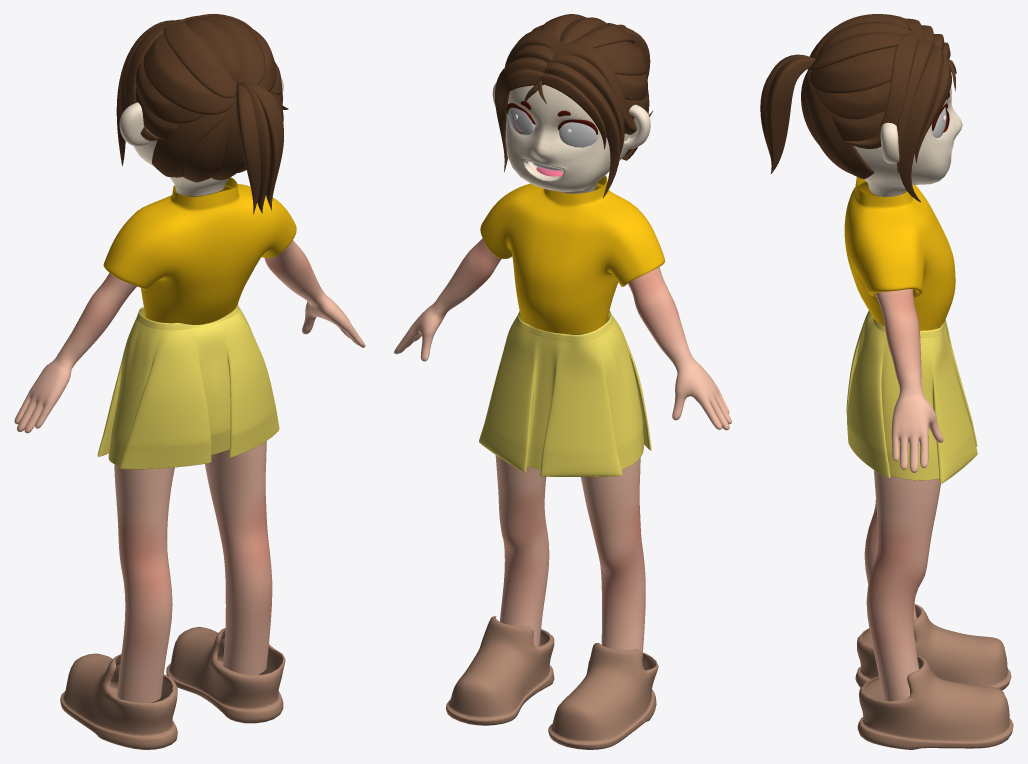
Rendered from girlplayer.fbx.
3 views of the same model, side by side, from view 1: azimuth 30°, elevation 25°; view 2: azimuth 150°, elevation 25°; view 3: azimuth 270°, elevation 25° (orthographic). The views are drawn at different scales.
Parts seen in each view (by area): view 1: Hair, Cube.003_contours, Koneko_Skirt, Circle.001, Cube.004_polystrips, Cube.003_contours.002, 人頭, 左耳; view 2: Koneko_Skirt, Circle.001, Cube.003_contours, Cube.004_polystrips, Hair, Cube.003_contours.002, 人頭, 眼珠, 左耳; view 3: Hair, Cube.004_polystrips, Koneko_Skirt, Cube.003_contours, Circle.001, Cube.003_contours.002, 人頭, 右耳.
Part boxes in pixels (<box>): Hair: <box>116,14,288,214</box>; Cube.003_contours: <box>114,441,272,703</box>; Koneko_Skirt: <box>97,304,279,469</box>; Circle.001: <box>103,177,296,324</box>; Cube.004_polystrips: <box>60,626,285,749</box>; Cube.003_contours.002: <box>14,240,365,433</box>; 人頭: <box>133,132,228,196</box>; 左耳: <box>119,102,148,146</box>; Koneko_Skirt: <box>479,310,651,476</box>; Circle.001: <box>480,175,664,333</box>; Cube.003_contours: <box>495,455,645,657</box>; Cube.004_polystrips: <box>446,616,658,749</box>; Hair: <box>495,14,652,198</box>; Cube.003_contours.002: <box>394,238,731,430</box>; 人頭: <box>505,84,628,193</box>; 眼珠: <box>508,107,597,147</box>; 左耳: <box>622,104,650,149</box>; Hair: <box>760,14,956,202</box>; Cube.004_polystrips: <box>855,604,1013,749</box>; Koneko_Skirt: <box>846,310,977,483</box>; Cube.003_contours: <box>864,470,940,701</box>; Circle.001: <box>844,177,955,330</box>; Cube.003_contours.002: <box>875,289,943,472</box>; 人頭: <box>854,87,962,196</box>; 右耳: <box>880,122,899,163</box>.
Size of the model in its own units: 347 by 673 by 225.
